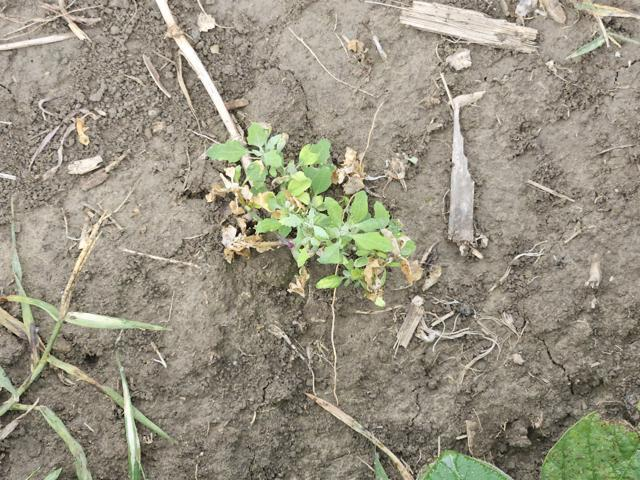bad weed: (179, 105, 432, 311), (24, 190, 147, 453)
